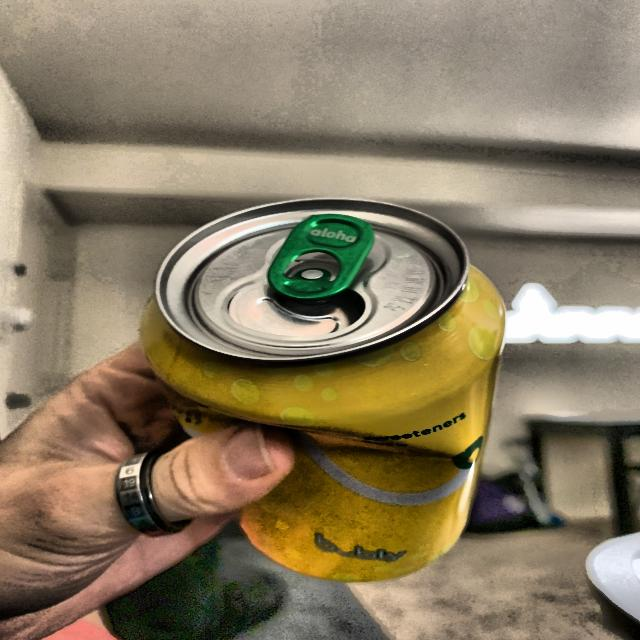Cans: (125, 181, 519, 599)
